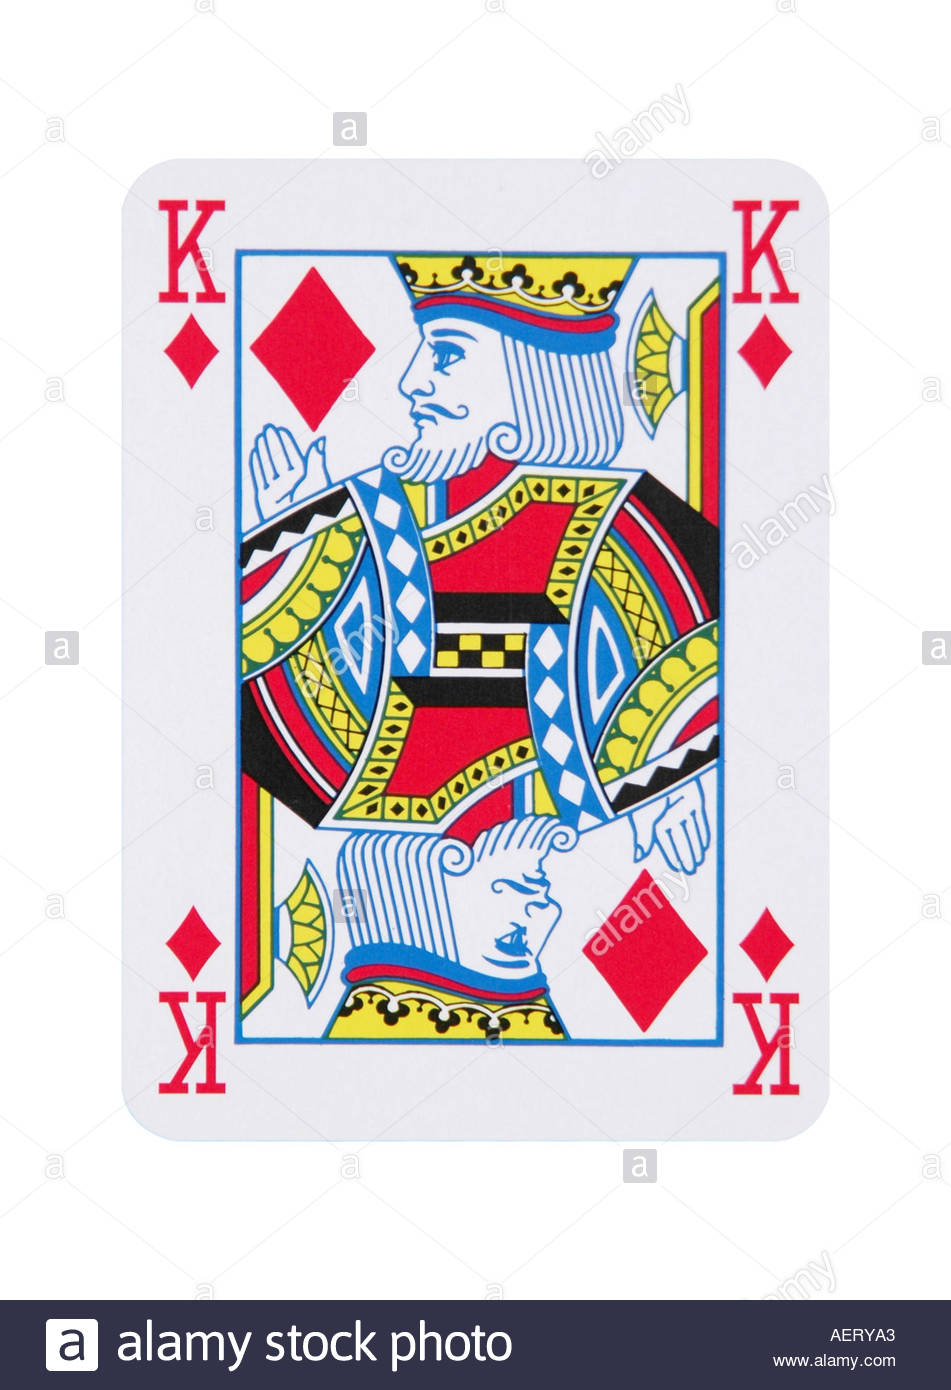king of diamonds: (115, 158, 830, 1133)
